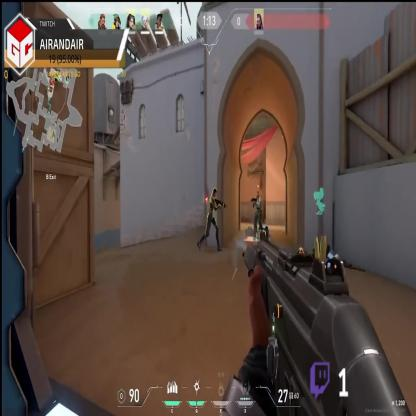enemy: (198, 188, 222, 252)
enemy_head: (212, 188, 217, 198)
